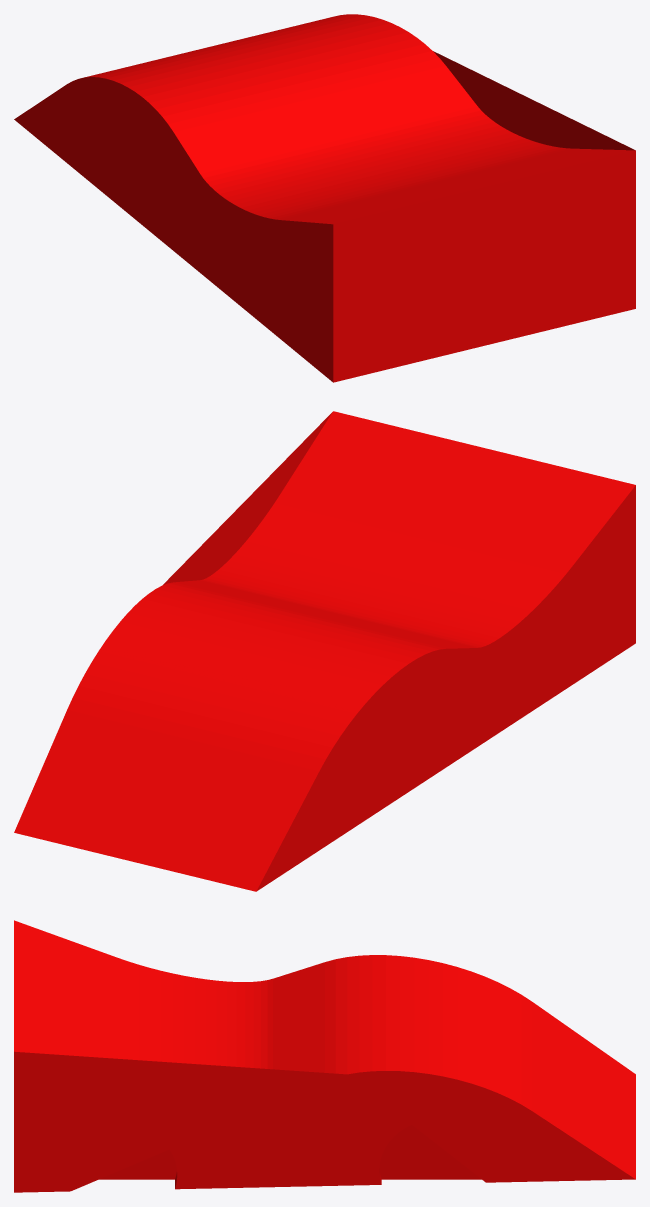
Rendered from Chassis.fbx.
3 renders of one model, top to bottom at view 1: azimuth 30°, elevation 25°; view 2: azimuth 150°, elevation 25°; view 3: azimuth 270°, elevation 25°, orthographic. The views are drawn at different scales.
Visible parts, largest first — view 1: Chassis; view 2: Chassis; view 3: Chassis.
Boxes of the visible parts, <box> form: Chassis: <box>14,14,635,382</box>; Chassis: <box>14,411,635,891</box>; Chassis: <box>14,920,635,1192</box>.
Bounding box in the file's own units: 2 × 1 × 4.
